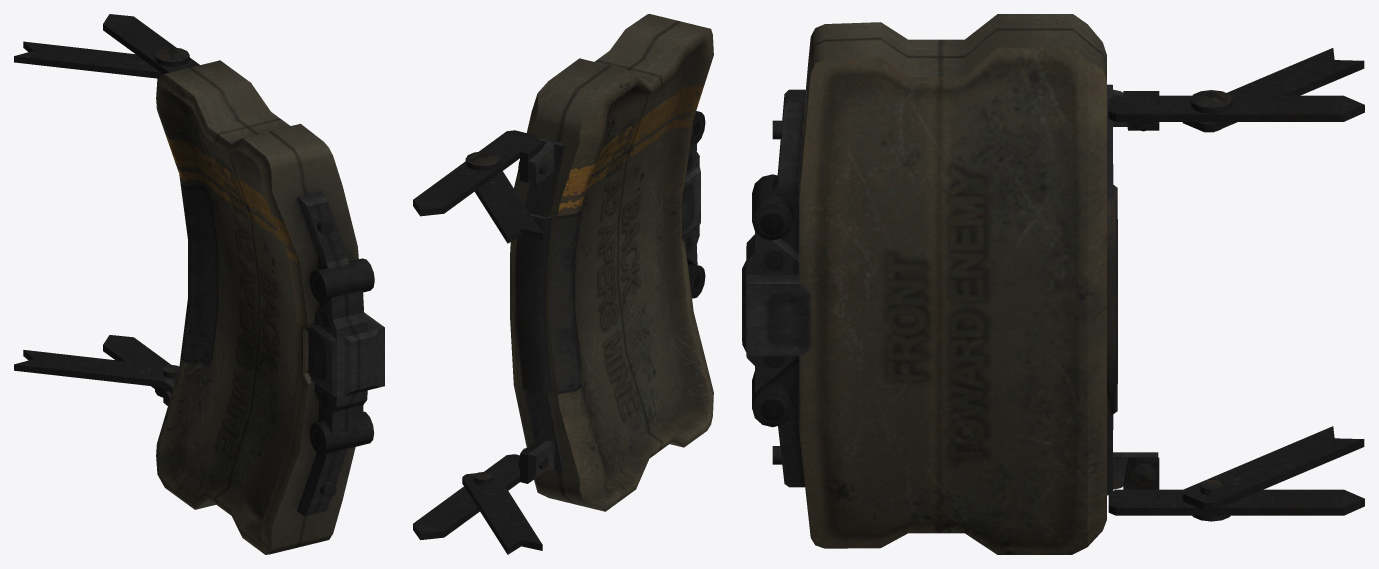
File: t6_wpn_claymore_view_LOD0.obj
The picture shows the model from 3 angles, left to right: view 1: azimuth 30°, elevation 25°; view 2: azimuth 150°, elevation 25°; view 3: azimuth 270°, elevation 25°; orthographic projection. The views are drawn at different scales.
Visible parts, largest first — view 1: mtl_t6_wpn_claymore; view 2: mtl_t6_wpn_claymore; view 3: mtl_t6_wpn_claymore.
Boxes of the visible parts, x1,y1,x2,y2 form: mtl_t6_wpn_claymore: [14, 14, 384, 554]; mtl_t6_wpn_claymore: [413, 14, 713, 554]; mtl_t6_wpn_claymore: [742, 14, 1364, 554].
Bounding box in the file's own units: 9.67 × 28.34 × 31.52.
